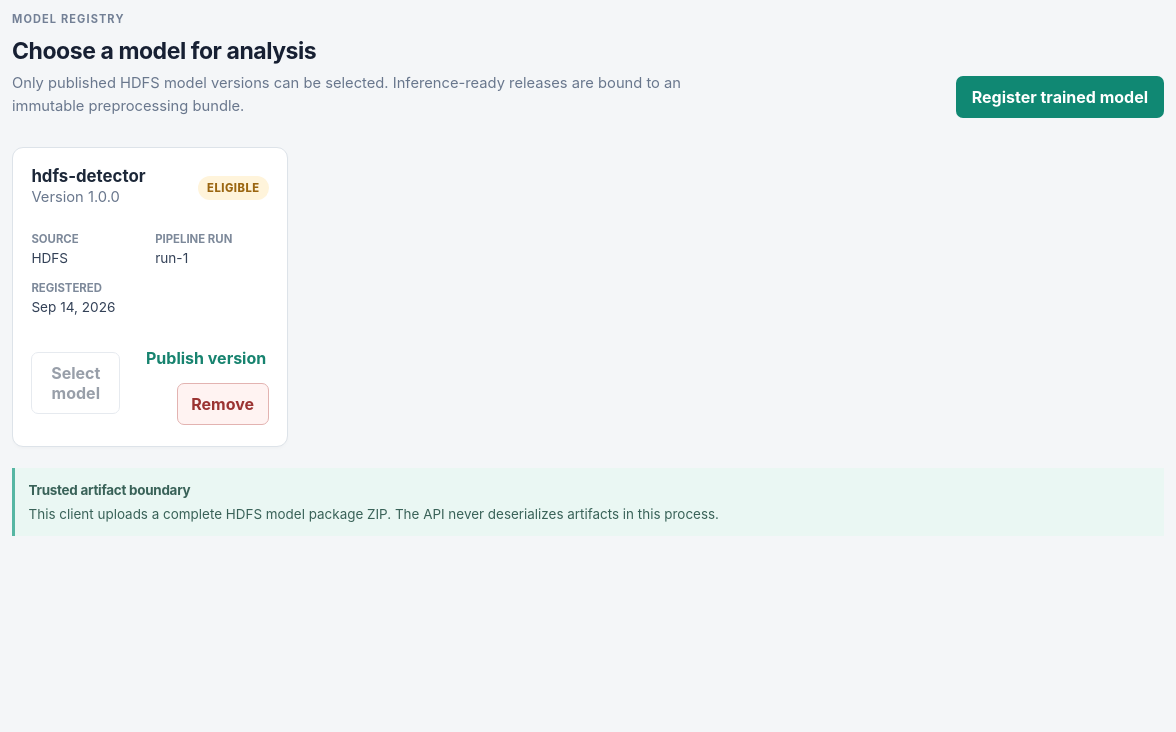
Test: Register and Publish role-deny copy › shows a Publish 403 alert and does not render success status
Click the button "Publish version" at (206, 358), box [144,340,269,375]
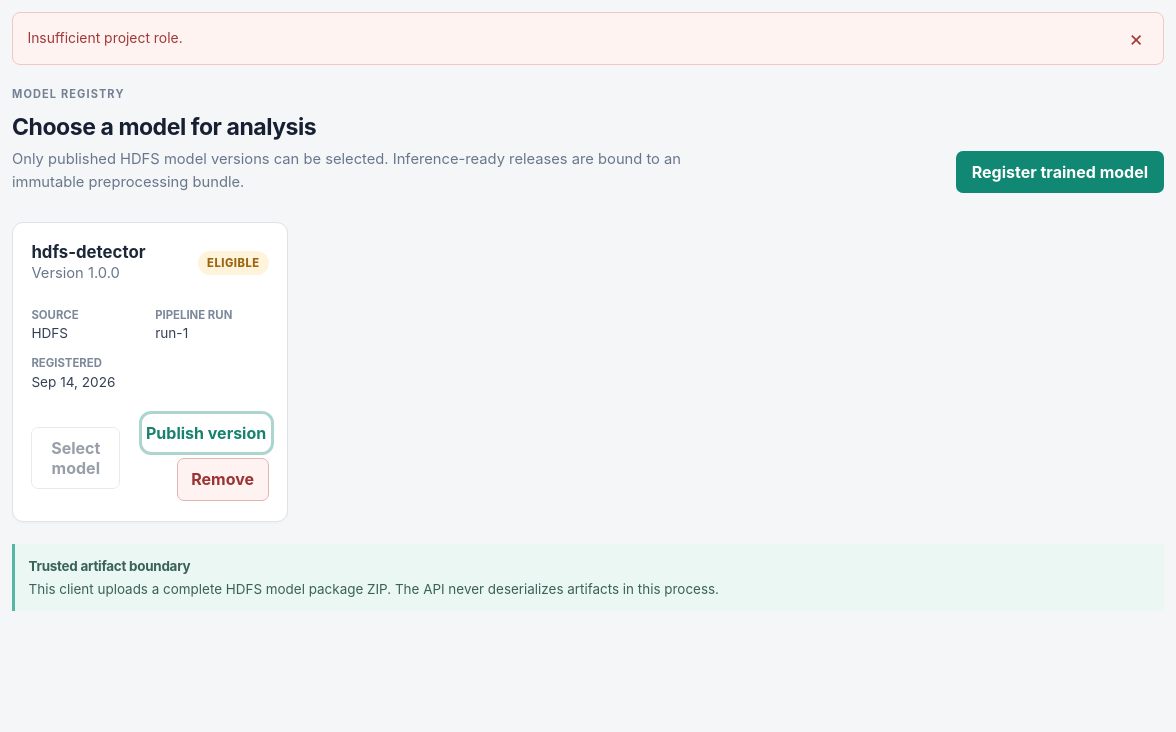
Now the message shows "Insufficient project role.", box [27,30,183,46]
